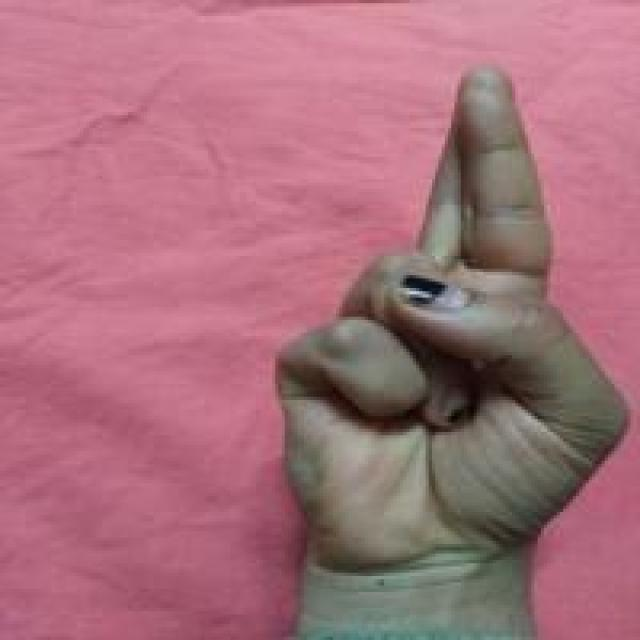R: (270, 54, 632, 586)
